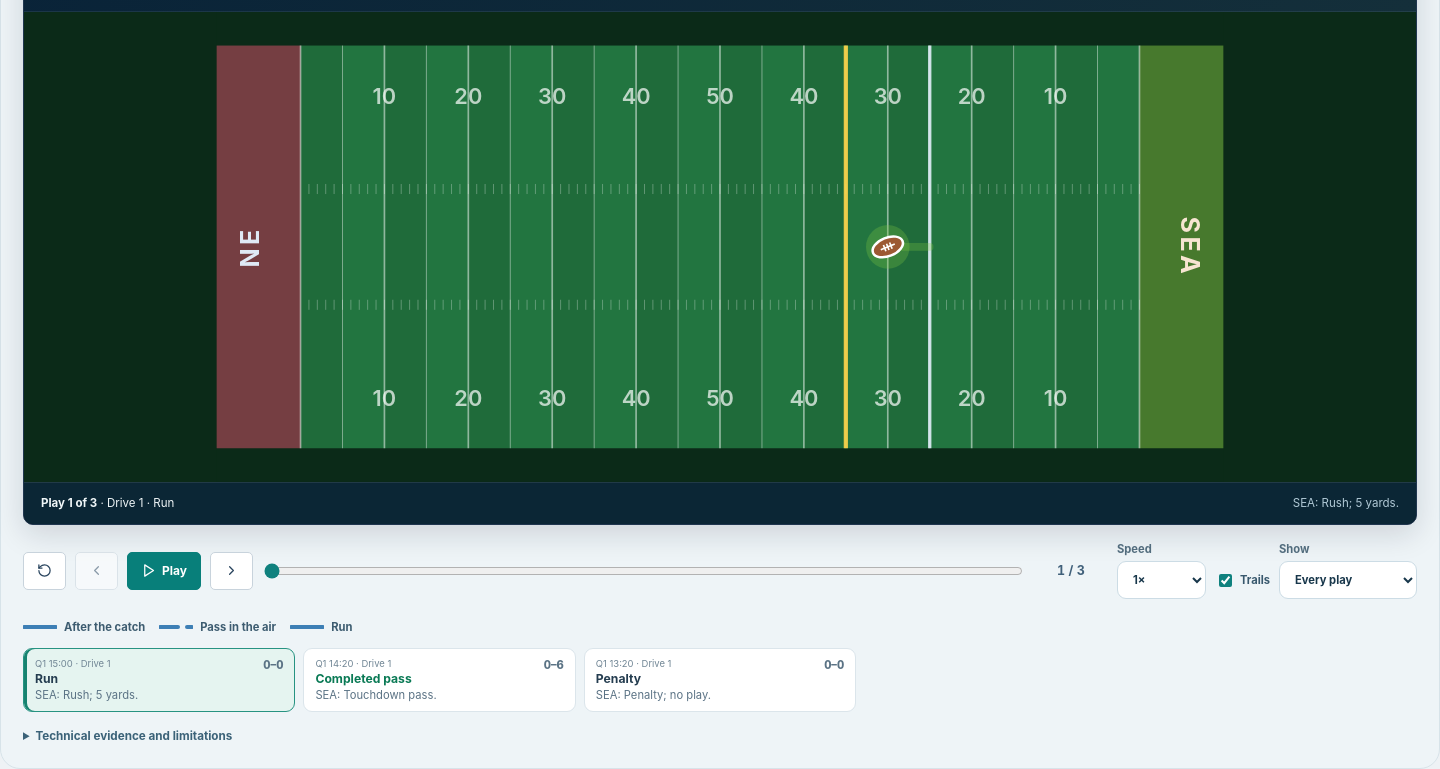
play theater › steps to the next play and carries the score with it
(page scrolled)
Click the button named "Next play" at (232, 571), box [210,552,253,590]
(page scrolled)
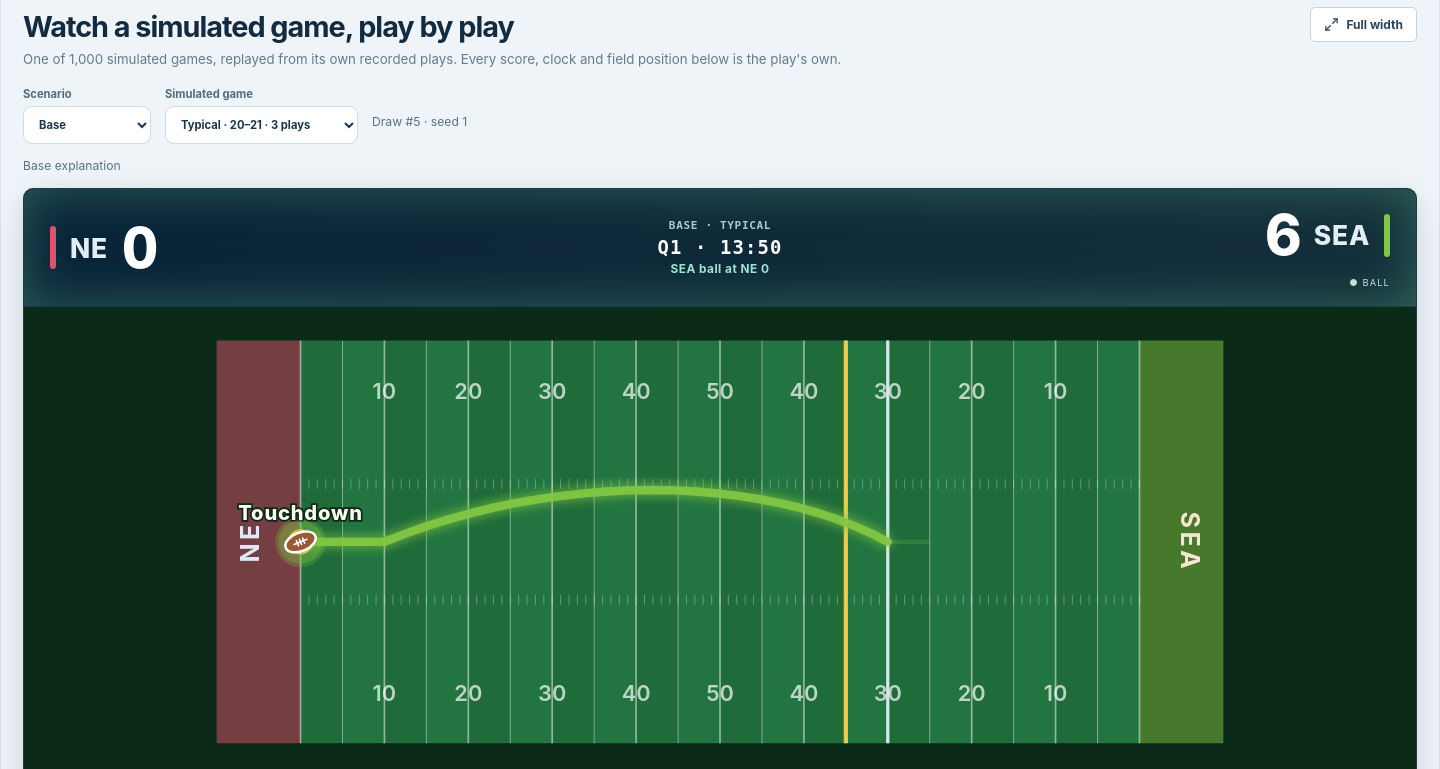
Expected: the text with test id "home-score" reads "6", [1265,201,1300,269]
